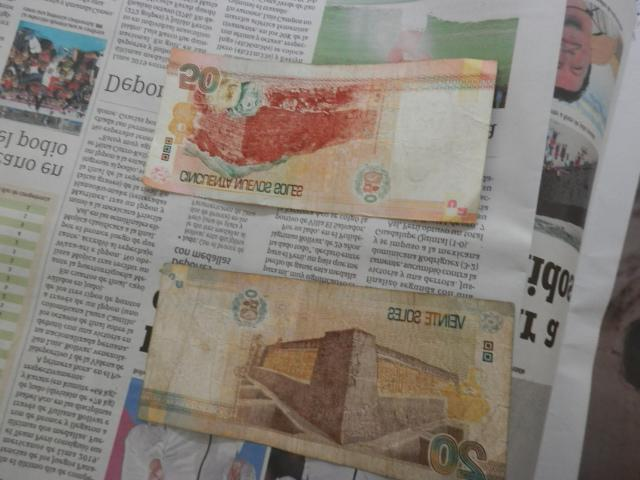B20: (136, 266, 516, 480)
B50: (143, 48, 497, 224)
